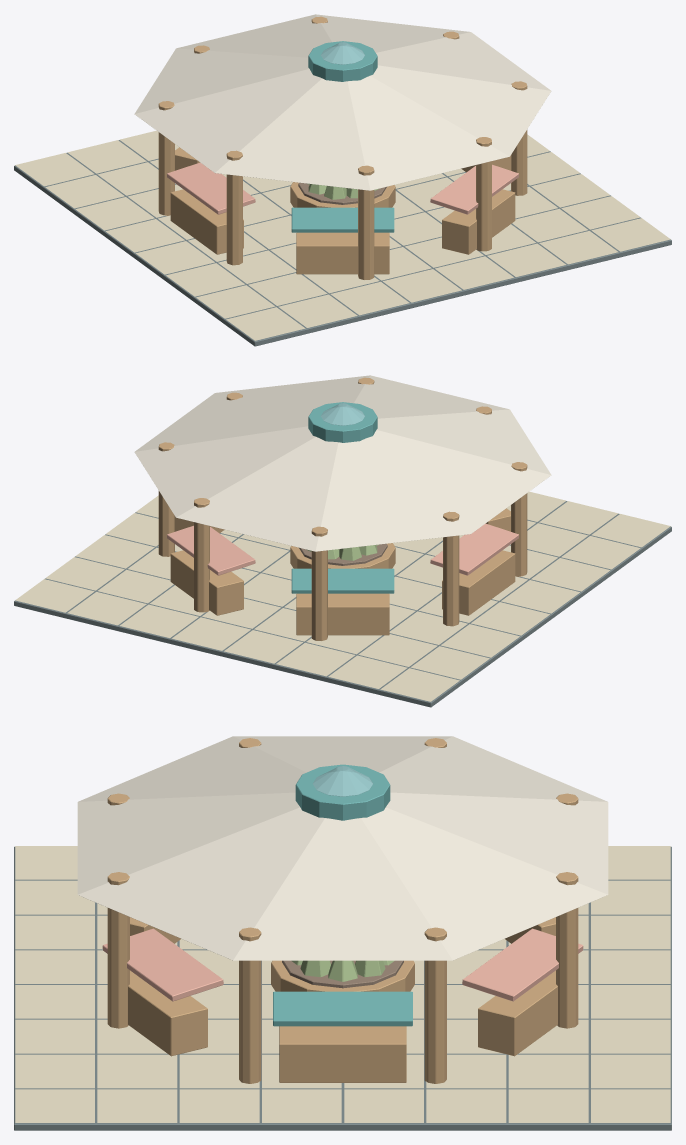
The model's file is b02-market-pavilion.glb.
3 renders of one model, top to bottom at view 1: azimuth 30°, elevation 25°; view 2: azimuth 150°, elevation 25°; view 3: azimuth 270°, elevation 25°, orthographic. The views are drawn at different scales.
Parts seen in each view (by area): view 1: MM_STR_B02_MARKET_PAVILION_A_LOD0; view 2: MM_STR_B02_MARKET_PAVILION_A_LOD0; view 3: MM_STR_B02_MARKET_PAVILION_A_LOD0.
Part boxes in pixels (x1,y1,x2,y2): MM_STR_B02_MARKET_PAVILION_A_LOD0: [14, 14, 671, 346]; MM_STR_B02_MARKET_PAVILION_A_LOD0: [14, 375, 671, 707]; MM_STR_B02_MARKET_PAVILION_A_LOD0: [14, 736, 671, 1130].
Bounding box in the file's own units: 16 × 6 × 16.
